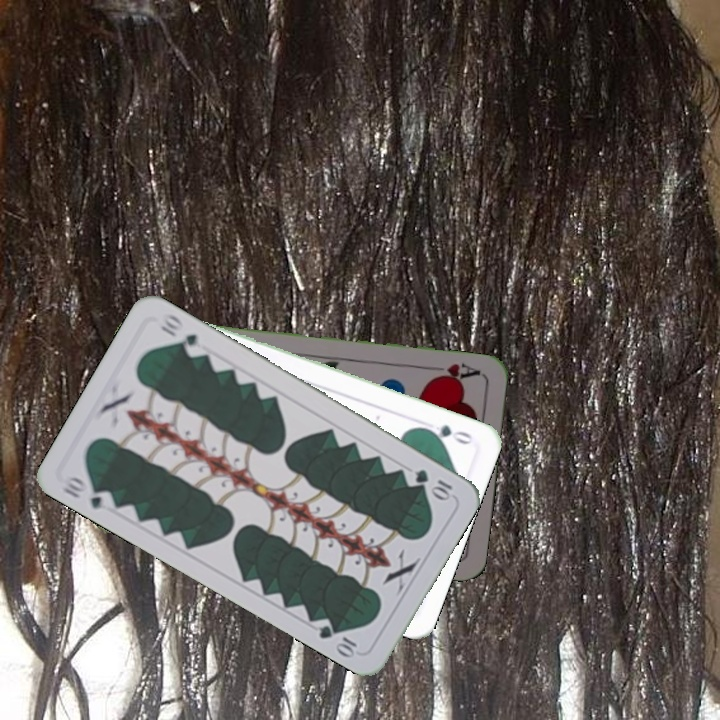G10: (55, 471, 117, 514), (411, 465, 455, 502)
GO: (418, 420, 475, 448)
HA: (425, 359, 483, 385)
